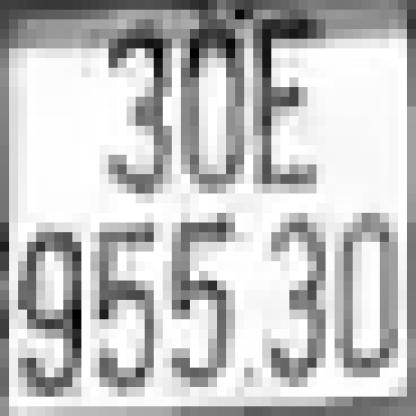0: (325, 203, 389, 368)
3: (108, 19, 181, 193), (253, 213, 317, 377)
5: (90, 213, 154, 377), (172, 213, 226, 377)
9: (18, 222, 81, 387)
E: (244, 29, 317, 194)
